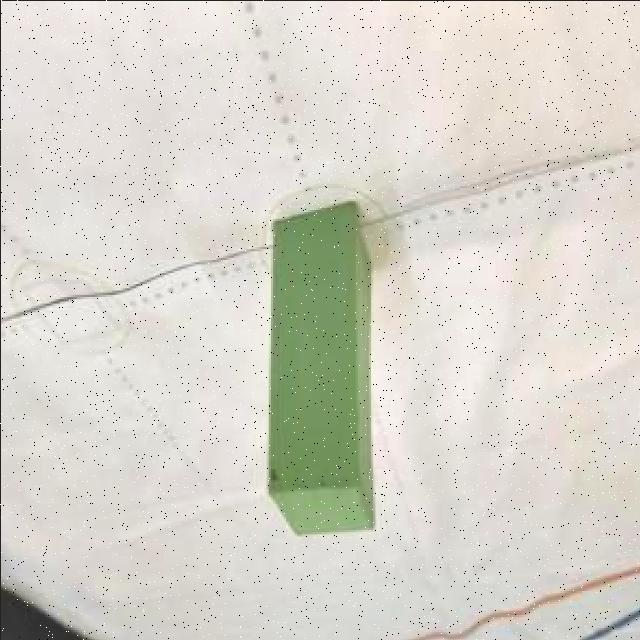greenbox: (258, 195, 376, 536)
